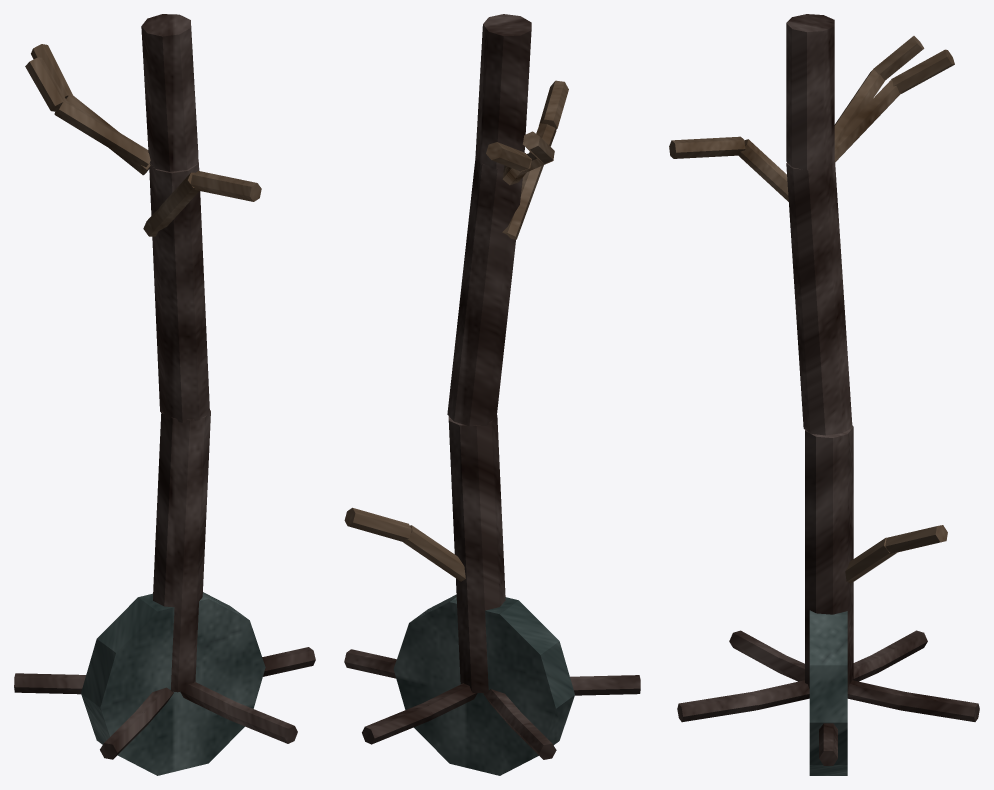
File: 0146_dead_tree_21.glb
3 views of the same model, side by side, from view 1: azimuth 30°, elevation 25°; view 2: azimuth 150°, elevation 25°; view 3: azimuth 270°, elevation 25° (orthographic).
Visible parts, largest first — view 1: wood_dark, stone_dark, wood; view 2: wood_dark, stone_dark, wood; view 3: wood_dark, wood, stone_dark.
Part boxes in pixels (box(x1,y1,x2,y2)): wood_dark: box(14, 14, 315, 759); stone_dark: box(81, 592, 265, 775); wood: box(25, 44, 261, 236); wood_dark: box(344, 14, 640, 759); stone_dark: box(393, 594, 574, 775); wood: box(344, 80, 568, 581); wood_dark: box(677, 14, 979, 765); wood: box(669, 36, 954, 583); stone_dark: box(809, 610, 847, 775).
Size of the model in its own units: 1.66 by 4.68 by 1.79.
Materials: 3 (3 with a texture image).
